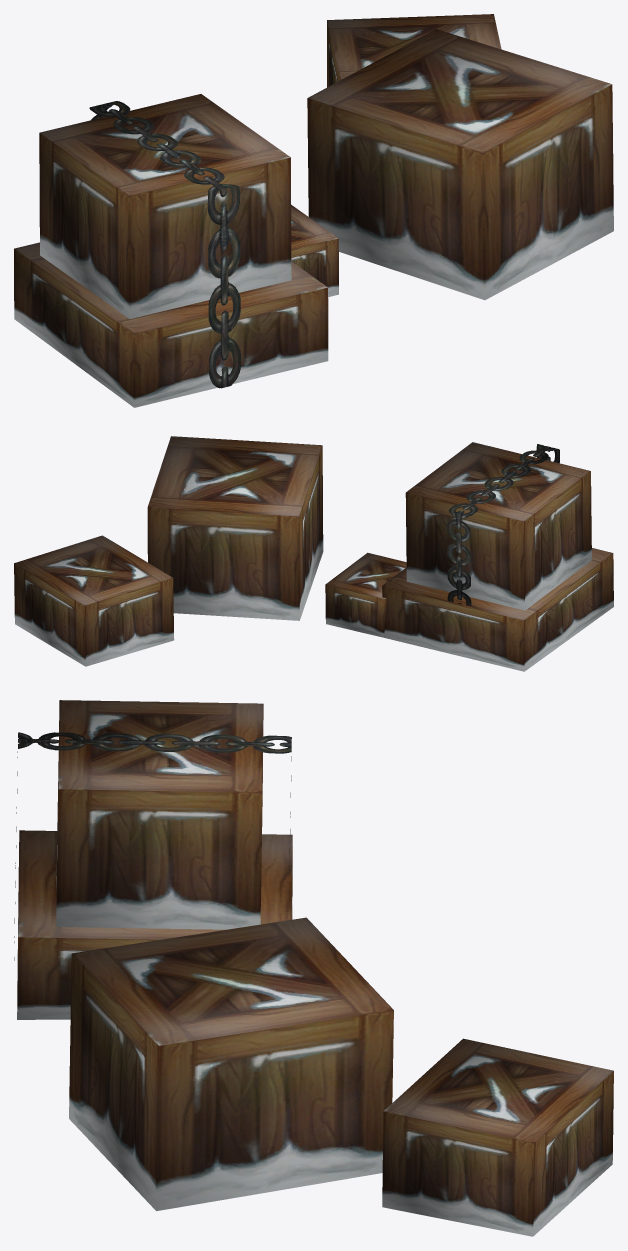
The model's file is environment_common_xuedimuxiang_003_a.FBX.
The picture shows the model from 3 angles, top to bottom: view 1: azimuth 30°, elevation 25°; view 2: azimuth 150°, elevation 25°; view 3: azimuth 270°, elevation 25°; orthographic projection. The views are drawn at different scales.
Visible parts, largest first — view 1: environment_common_xuedimuxiang_003_a, environment_common_xuedimuxiang_003_b; view 2: environment_common_xuedimuxiang_003_a, environment_common_xuedimuxiang_003_b; view 3: environment_common_xuedimuxiang_003_a, environment_common_xuedimuxiang_003_b.
Boxes of the visible parts, x1,y1,x2,y2 form: environment_common_xuedimuxiang_003_a: (14, 14, 613, 407); environment_common_xuedimuxiang_003_b: (89, 101, 241, 388); environment_common_xuedimuxiang_003_a: (14, 436, 613, 671); environment_common_xuedimuxiang_003_b: (447, 444, 559, 606); environment_common_xuedimuxiang_003_a: (17, 700, 613, 1236); environment_common_xuedimuxiang_003_b: (14, 732, 291, 960).
Bounding box in the file's own units: 212 × 67.58 × 166.
